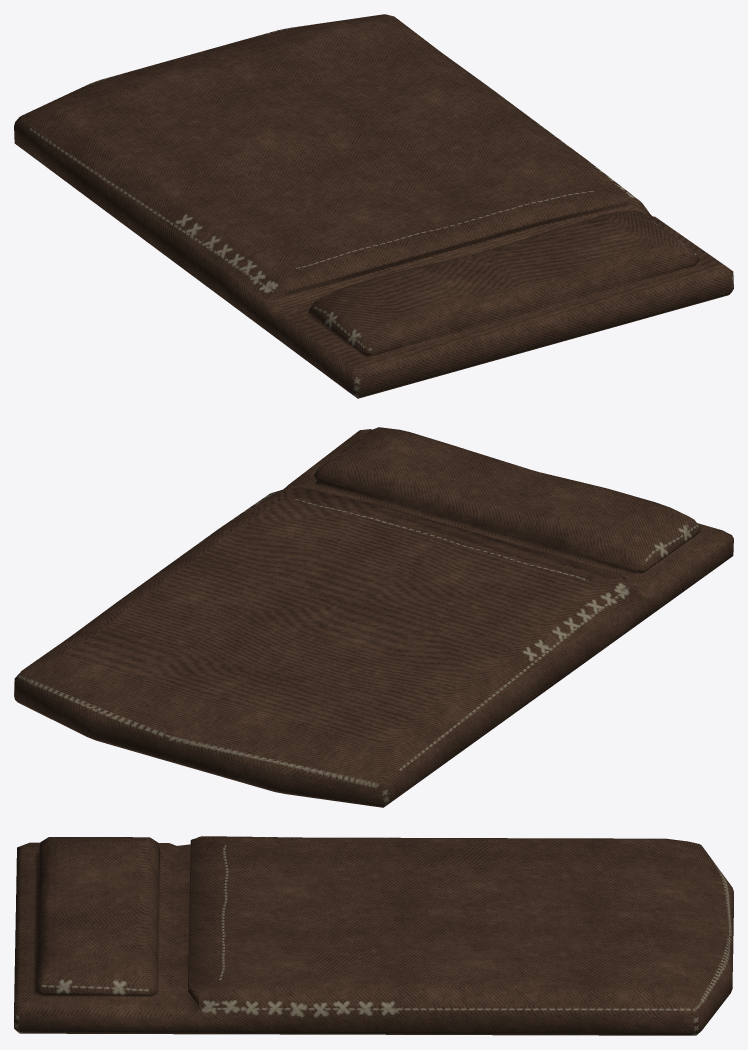
File: Bed2.glb
The picture shows the model from 3 angles, top to bottom: view 1: azimuth 30°, elevation 25°; view 2: azimuth 150°, elevation 25°; view 3: azimuth 270°, elevation 25°; orthographic projection.
Parts seen in each view (by area): view 1: sleepsack_Material.001_0; view 2: sleepsack_Material.001_0; view 3: sleepsack_Material.001_0.
Part boxes in pixels (x1,y1,x2,y2): sleepsack_Material.001_0: (14, 14, 733, 398); sleepsack_Material.001_0: (14, 427, 733, 807); sleepsack_Material.001_0: (14, 836, 733, 1035).
Bounding box in the file's own units: 2.02 × 0.3317 × 3.33.
Materials: 1 (1 with a texture image).
